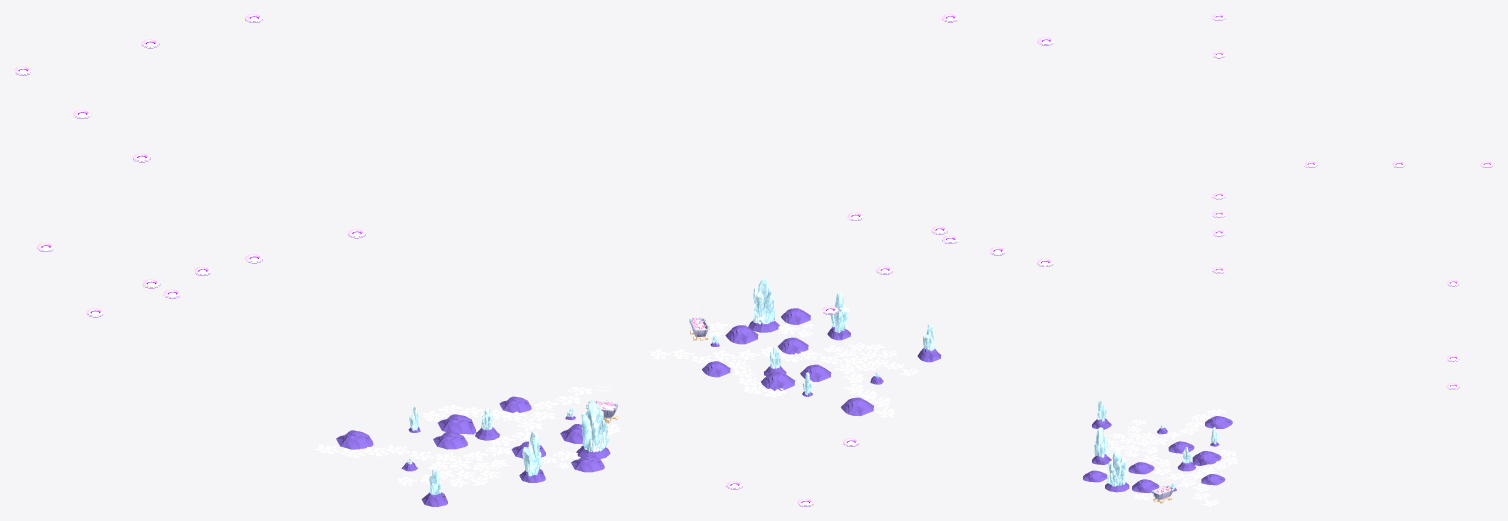
The model's file is squares.glb.
3 renders of one model, left to right at view 1: azimuth 30°, elevation 25°; view 2: azimuth 150°, elevation 25°; view 3: azimuth 270°, elevation 25°, orthographic. The views are drawn at different scales.
Visible parts, largest first — view 1: RockFloor_Module_1M.033, L1_Piedra_0.010, L1_lambert2_0.003; view 2: RockFloor_Module_1M.033, L1_Piedra_0.010, L1_lambert2_0.003, L1_lambert2_0; view 3: RockFloor_Module_1M.033, L1_Piedra_0.010, L1_lambert2_0.003.
Part boxes in pixels (bbox=[...]): RockFloor_Module_1M.033: bbox=[315, 387, 620, 487]; L1_Piedra_0.010: bbox=[336, 396, 610, 506]; L1_lambert2_0.003: bbox=[581, 400, 608, 452]; RockFloor_Module_1M.033: bbox=[650, 322, 918, 417]; L1_Piedra_0.010: bbox=[702, 308, 941, 416]; L1_lambert2_0.003: bbox=[753, 278, 775, 324]; L1_lambert2_0: bbox=[830, 292, 849, 332]; RockFloor_Module_1M.033: bbox=[1099, 409, 1237, 506]; L1_Piedra_0.010: bbox=[1083, 416, 1232, 492]; L1_lambert2_0.003: bbox=[1107, 447, 1126, 486].
Size of the model in its own units: 51.85 by 50.68 by 56.
5 materials, 2 textured.
